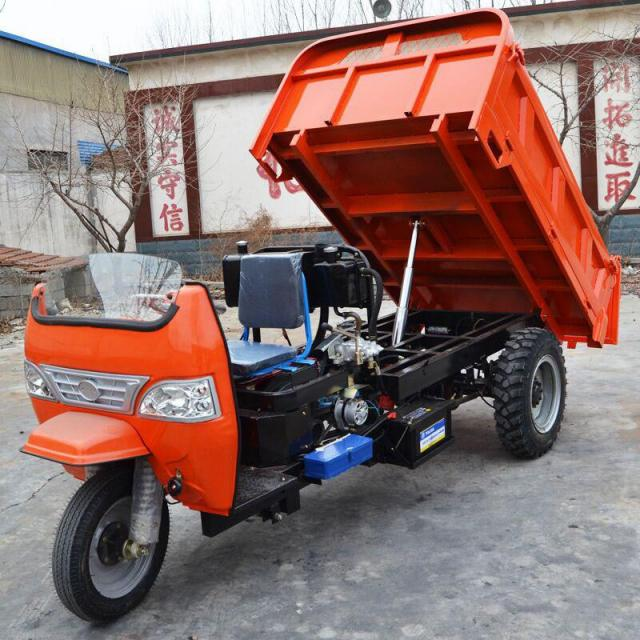tricycle: (19, 9, 620, 623)
